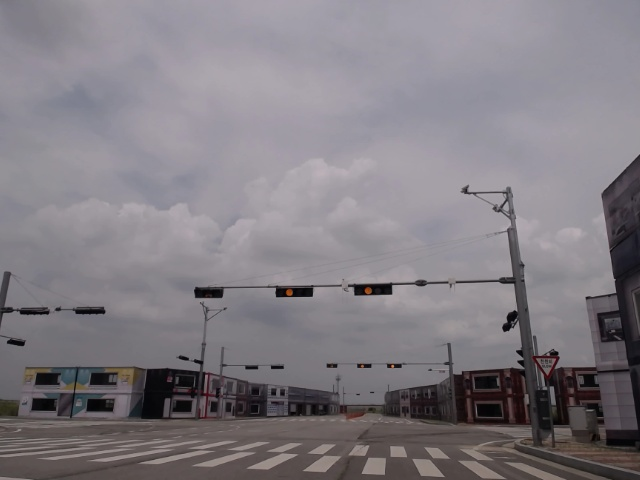orange_4: (272, 285, 316, 300), (353, 282, 395, 297), (385, 362, 406, 370), (356, 362, 373, 371)
